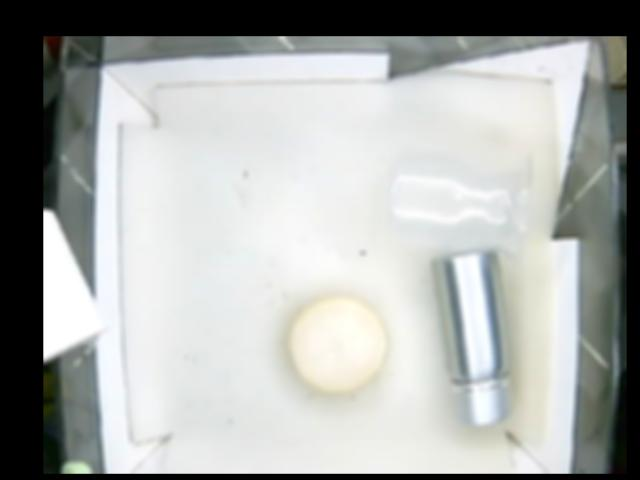Bottle: (428, 250, 514, 424), (388, 156, 527, 240)
Mooli: (288, 296, 386, 394)
